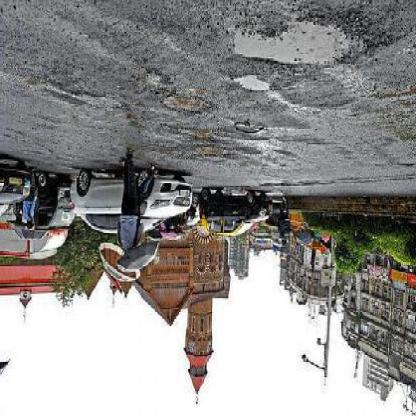pothole: (229, 21, 363, 71), (163, 94, 212, 119), (234, 76, 274, 98), (235, 125, 267, 139)
